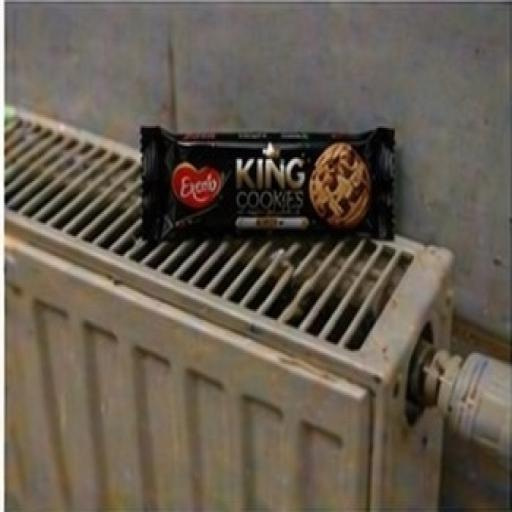king-cooking: (122, 72, 444, 280)
